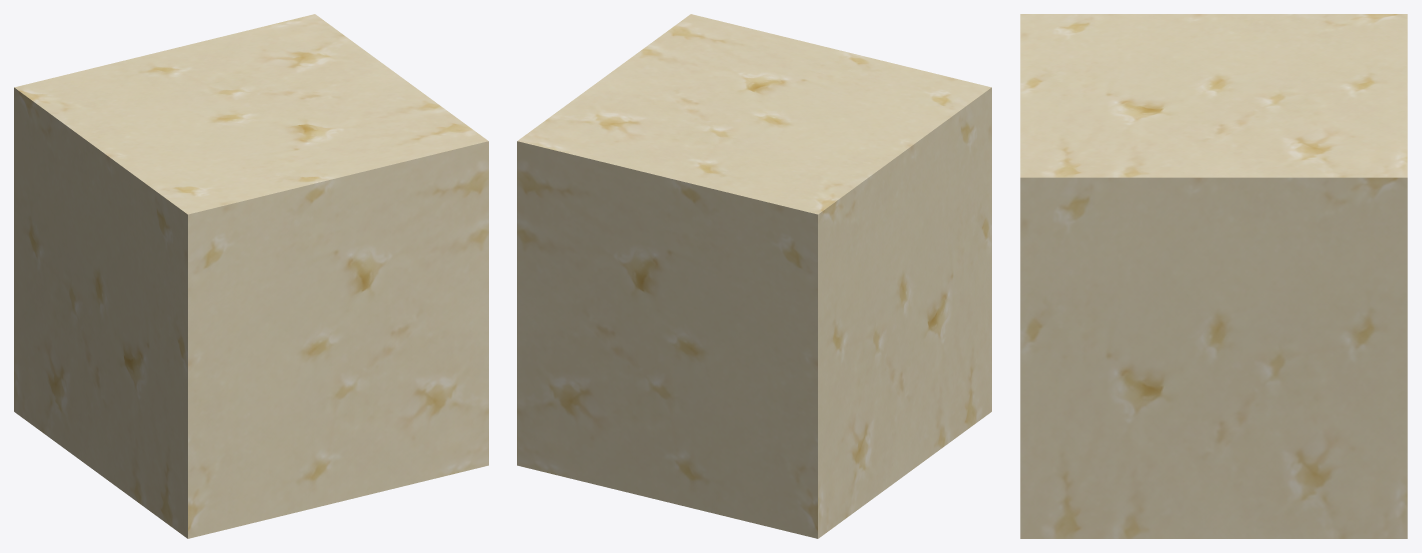
File: tofu.glb
The picture shows the model from 3 angles, left to right: view 1: azimuth 30°, elevation 25°; view 2: azimuth 150°, elevation 25°; view 3: azimuth 270°, elevation 25°; orthographic projection. The views are drawn at different scales.
Visible parts, largest first — view 1: tofu; view 2: tofu; view 3: tofu.
Part boxes in pixels (bbox=[...]): tofu: bbox=[14, 14, 488, 538]; tofu: bbox=[517, 14, 991, 538]; tofu: bbox=[1020, 14, 1407, 538].
Size of the model in its own units: 0.8737 by 0.9 by 0.8737.
Materials: 1 (1 with a texture image).
